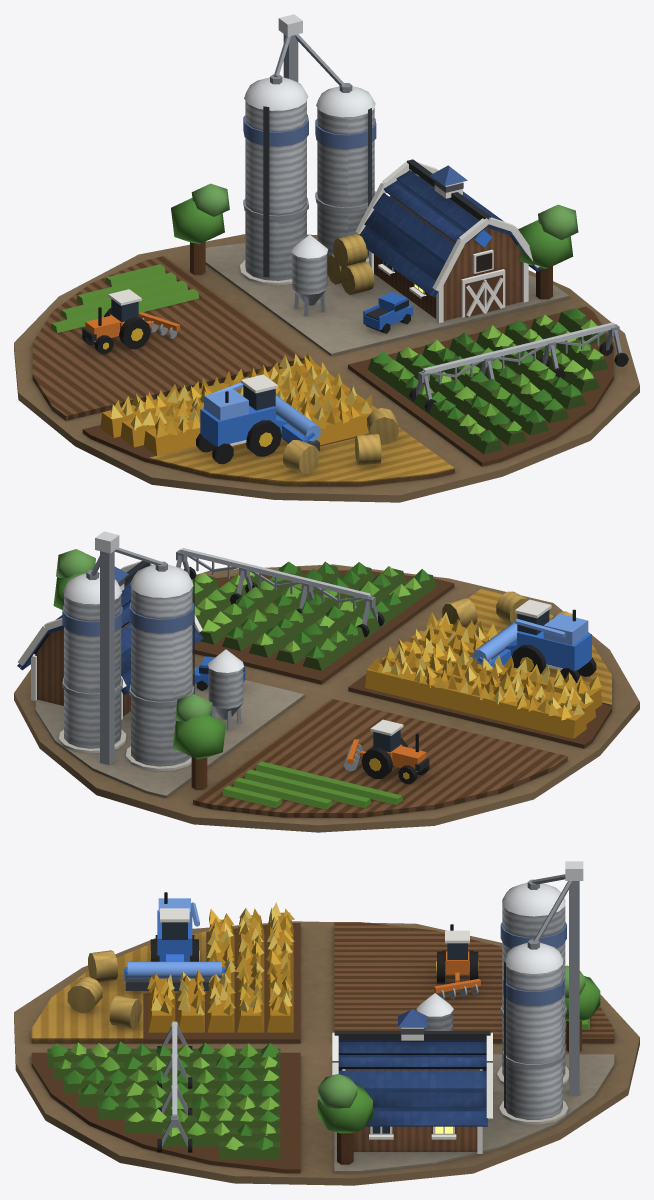
The model's file is farm_modern_blue.glb.
The picture shows the model from 3 angles, top to bottom: view 1: azimuth 30°, elevation 25°; view 2: azimuth 150°, elevation 25°; view 3: azimuth 270°, elevation 25°; orthographic projection.
Visible parts, largest first — view 1: farm_modern_blue; view 2: farm_modern_blue; view 3: farm_modern_blue.
Part boxes in pixels (box(x1,y1,x2,y2)): farm_modern_blue: box(14, 14, 639, 502); farm_modern_blue: box(14, 531, 639, 832); farm_modern_blue: box(14, 861, 639, 1185).
Bounding box in the file's own units: 1.36 × 0.585 × 1.4.
Materials: 2 (1 with a texture image).
